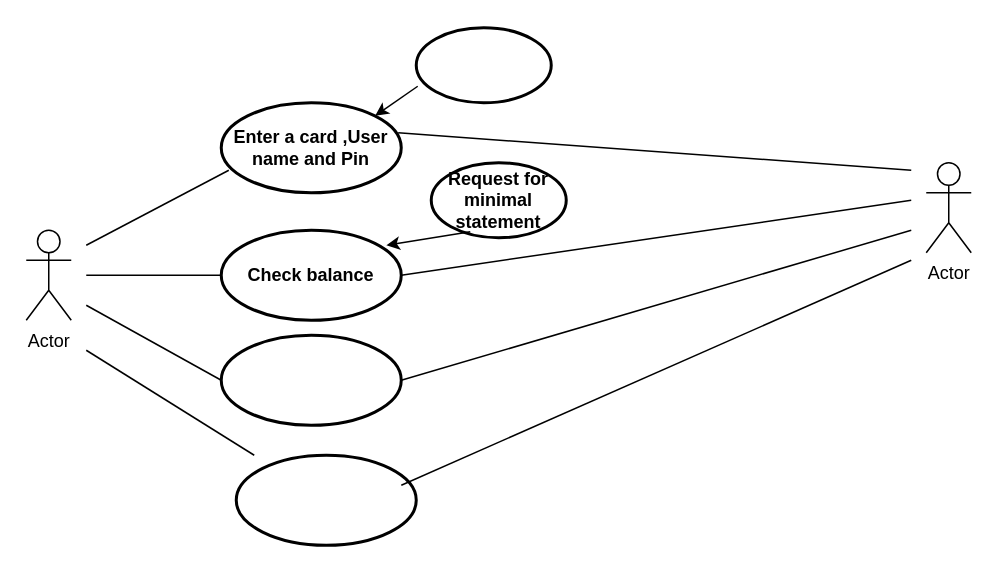
Image size: 998x572. Some labels were removed from this diagram. The box of each missing label's shape, as (x1, y1, x2, y2) in pixels:
Deposit Money: (234, 453, 417, 546)
Invalid Id: (414, 26, 552, 104)
Withdrawal of money: (219, 333, 402, 426)
